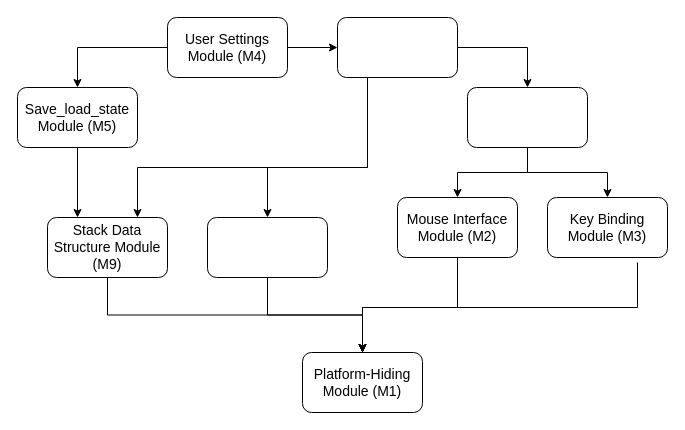
Some shapes in this 685 by 430 pixel diagram are drawn without their labels. Each missing label, with the centre of its shape:
"Card Movement Module (M6)" goes at point (527, 117).
"Enum Data Structure Module (M8)" goes at point (267, 247).
"Gameplay Module (M7)" goes at point (397, 47).
